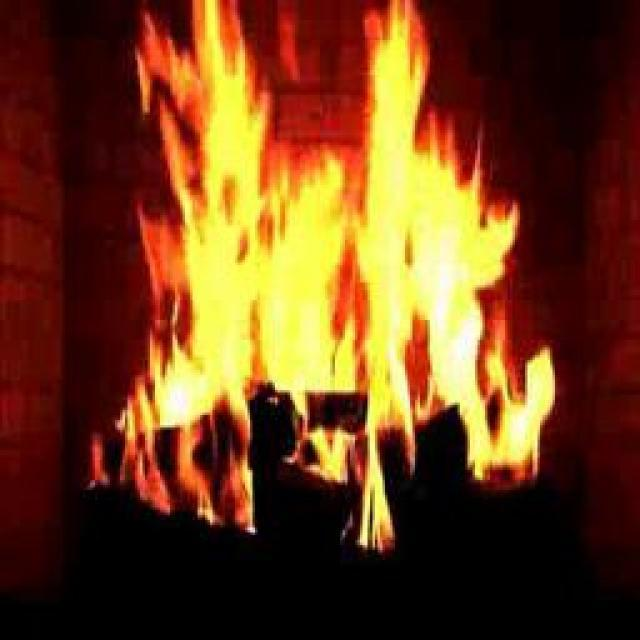Fire: (142, 34, 545, 475)
